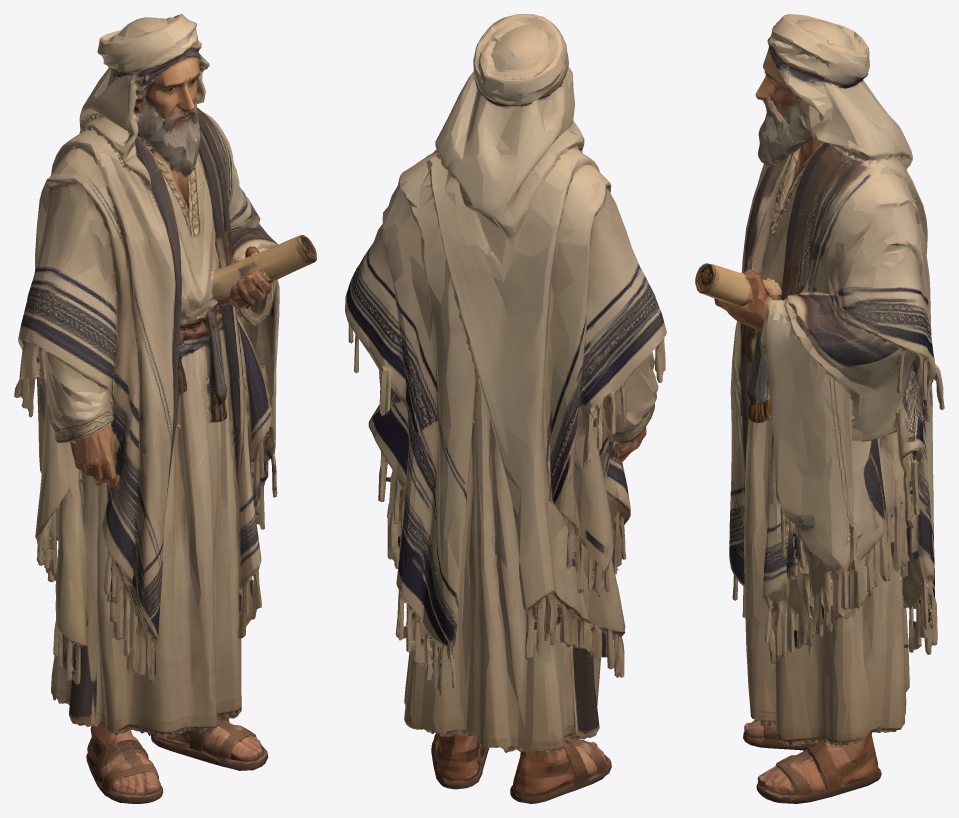
File: jewish.glb
3 renders of one model, left to right at view 1: azimuth 30°, elevation 25°; view 2: azimuth 150°, elevation 25°; view 3: azimuth 270°, elevation 25°, orthographic.
Size of the model in its own units: 0.7159 by 1.9 by 0.5791.
1 material, 1 textured.
